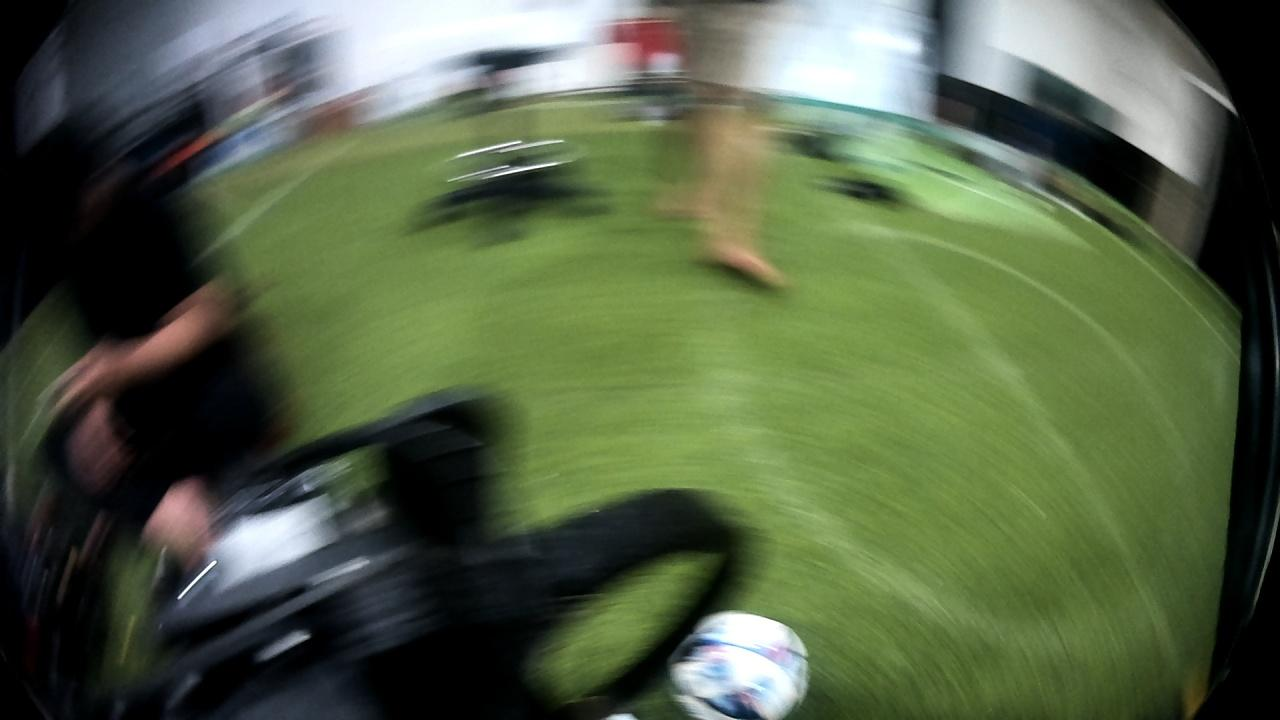ball: (669, 606, 815, 720)
